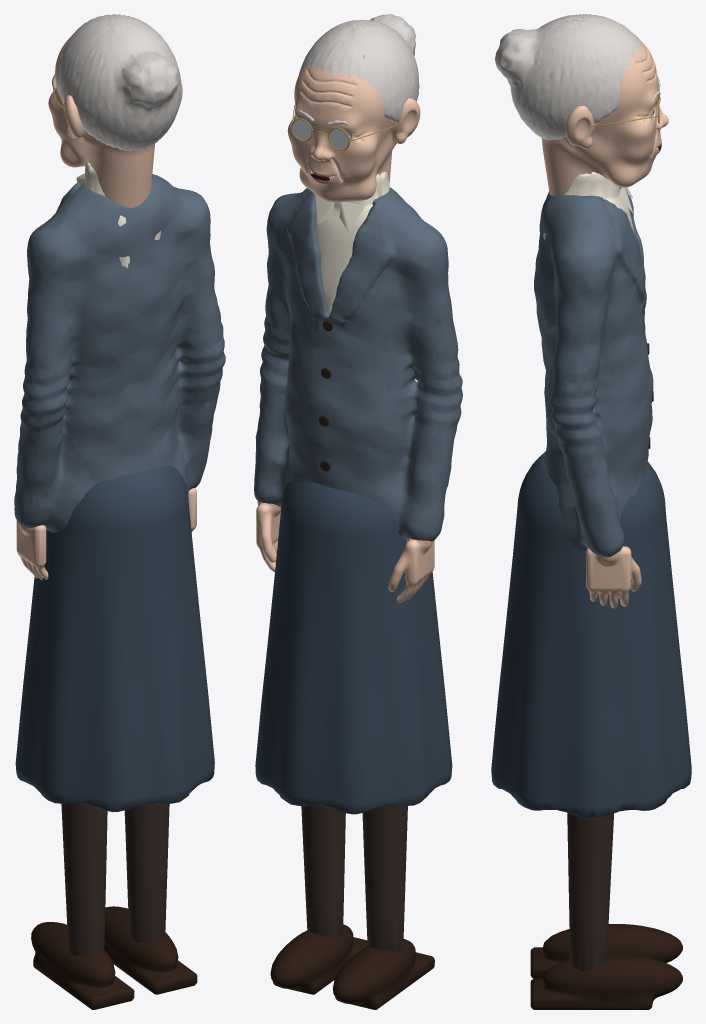
The model's file is agnes_old.fbx.
3 renders of one model, left to right at view 1: azimuth 30°, elevation 25°; view 2: azimuth 150°, elevation 25°; view 3: azimuth 270°, elevation 25°, orthographic.
Parts seen in each view (by area): view 1: Body, Head, HandR; view 2: Body, Head, HandR, HandL; view 3: Body, Head, HandL.
Part boxes in pixels (left/top/right/bottom): Body: left=14, top=162, right=225, bottom=1009; Head: left=48, top=14, right=182, bottom=207; HandR: left=16, top=520, right=48, bottom=580; Body: left=254, top=171, right=462, bottom=1009; Head: left=287, top=14, right=420, bottom=202; HandR: left=388, top=538, right=434, bottom=602; HandL: left=256, top=501, right=280, bottom=572; Body: left=491, top=172, right=691, bottom=1009; Head: left=495, top=14, right=668, bottom=195; HandL: left=586, top=546, right=641, bottom=608.
Bounding box in the file's own units: 0.3767 × 1.75 × 0.3285.
